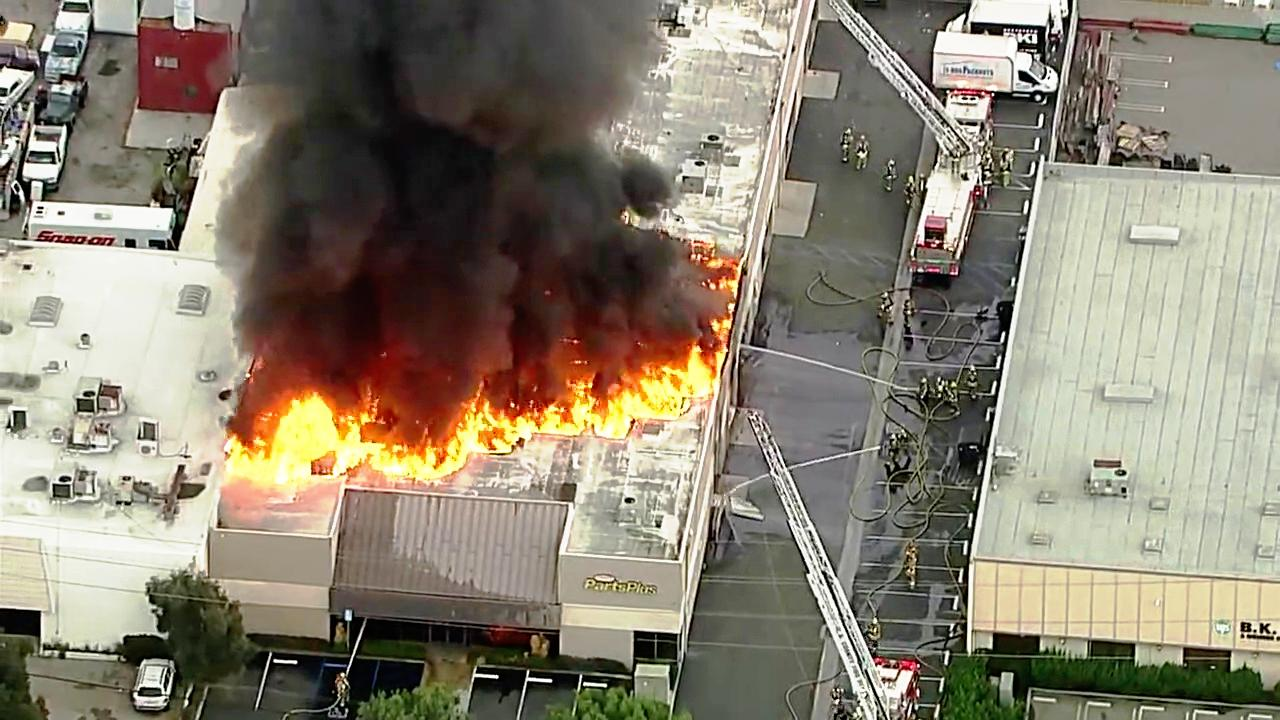fire: (517, 345, 710, 439), (370, 399, 520, 475), (242, 395, 350, 495)
smoke: (259, 1, 619, 359)
